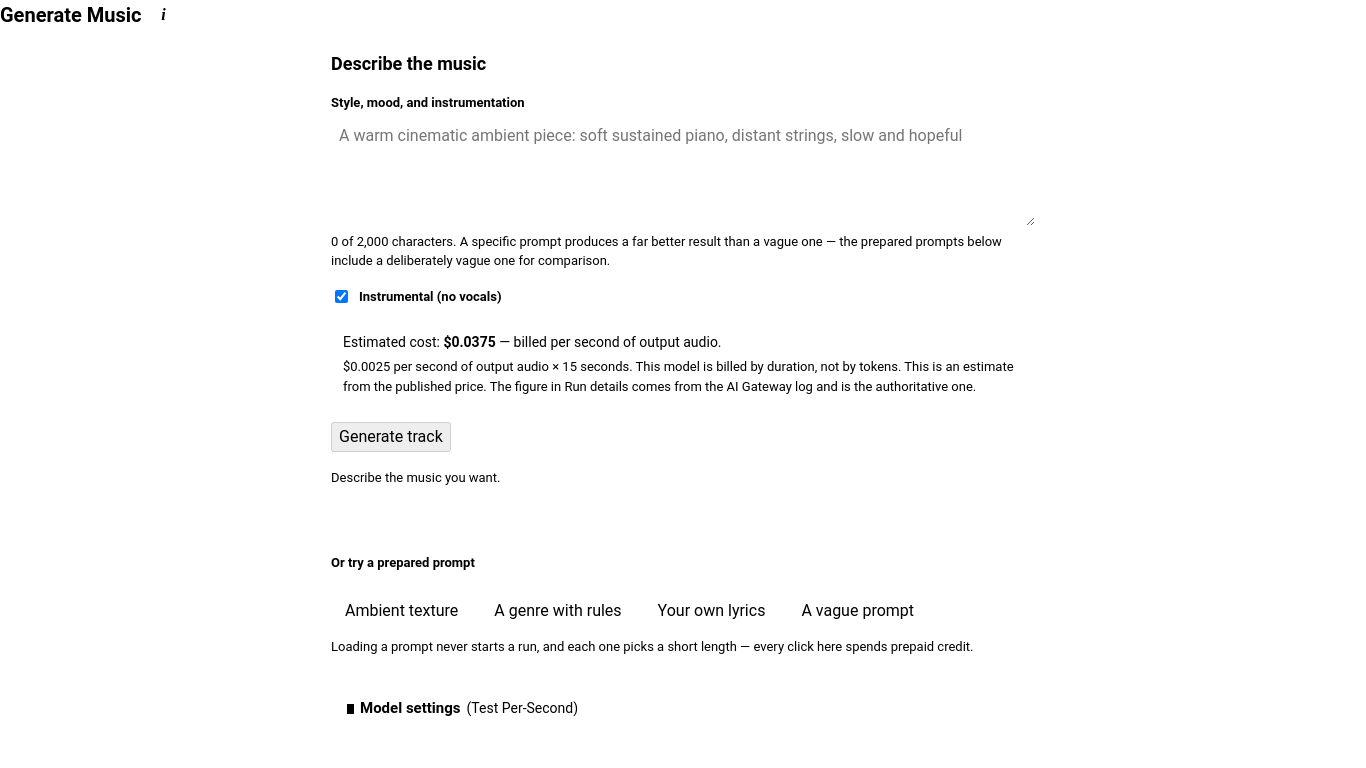
Scenario: run details › opens the run-details modal after a run
Step 1. Replace the text in the text box with id "music-prompt" with "ambient piano" → [683, 172], box [331,118,1035,226]
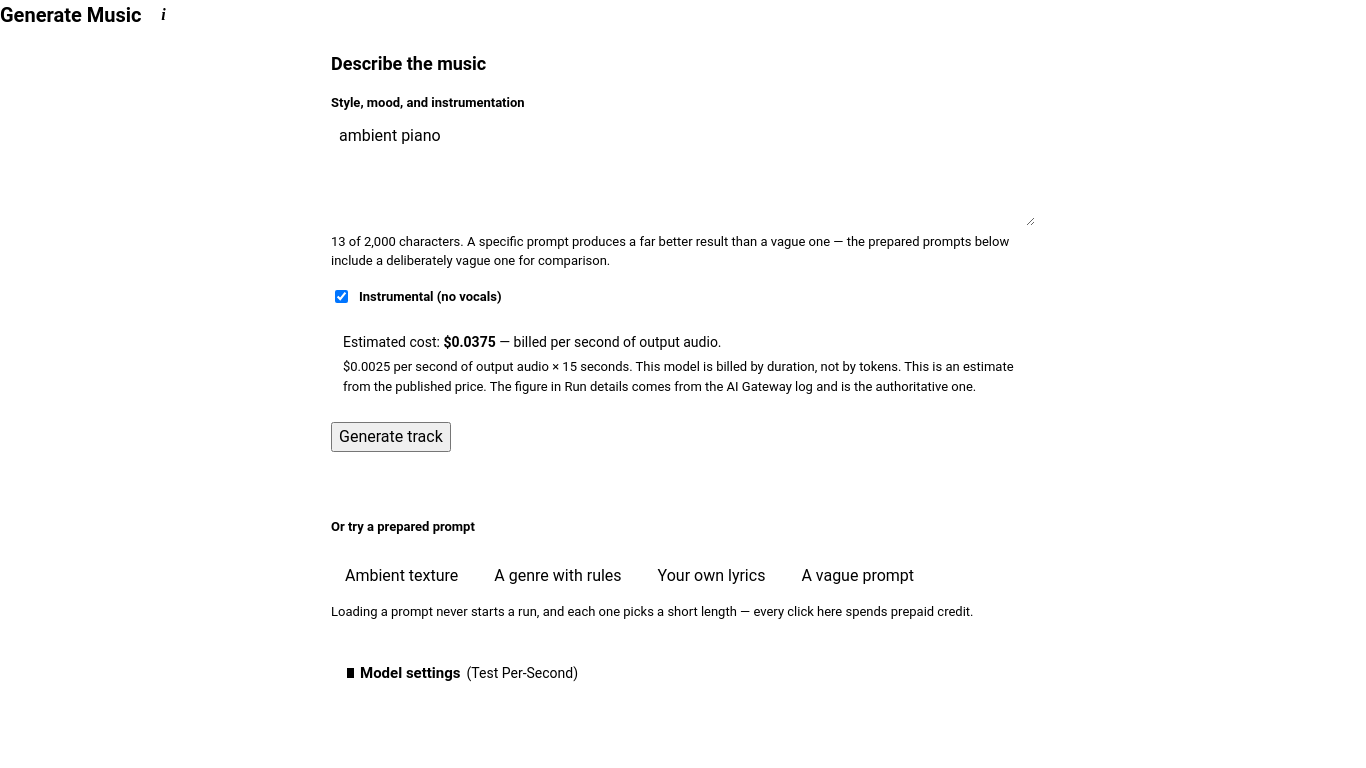
Step 2. Click the button with class "generate-button" → [391, 437], box [331,422,451,452]
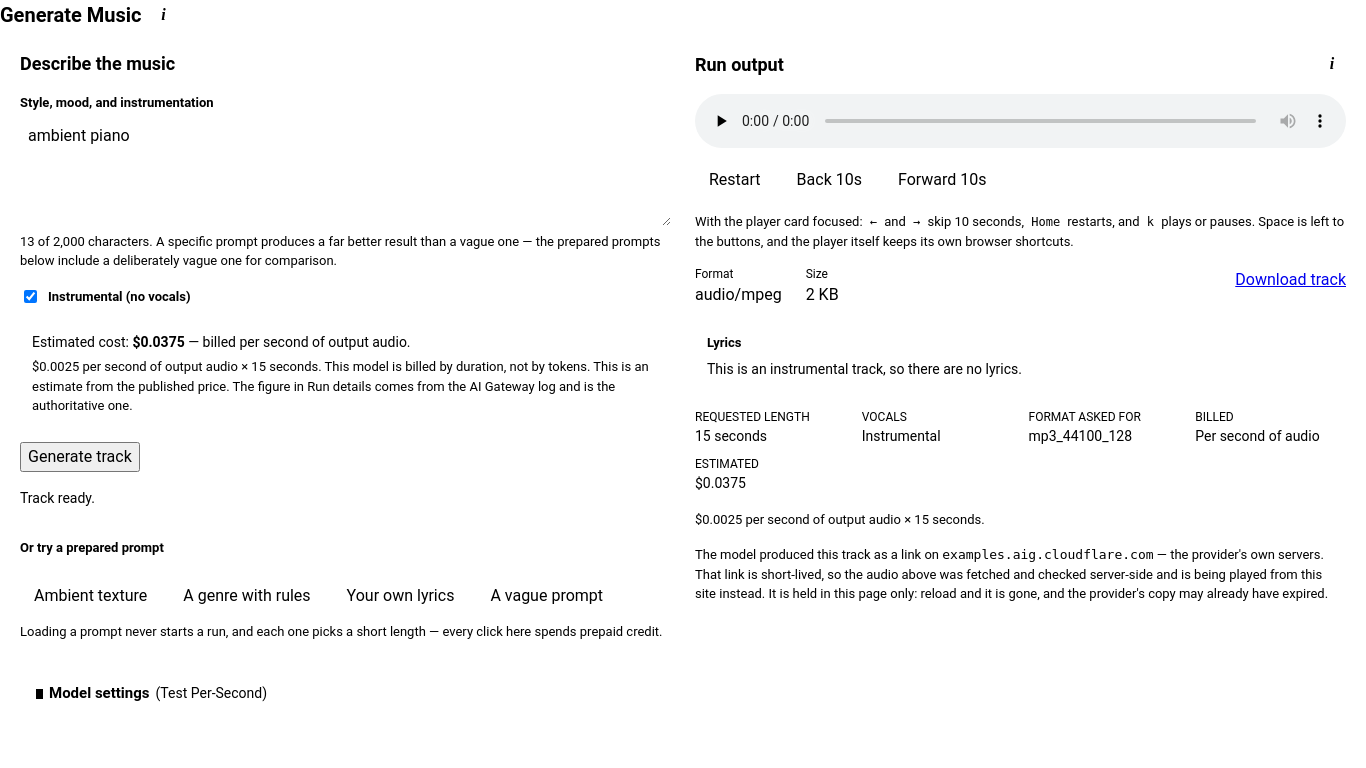
Step 3. Click the button with class "run-details-button" → [1332, 64], box [1318,50,1346,78]
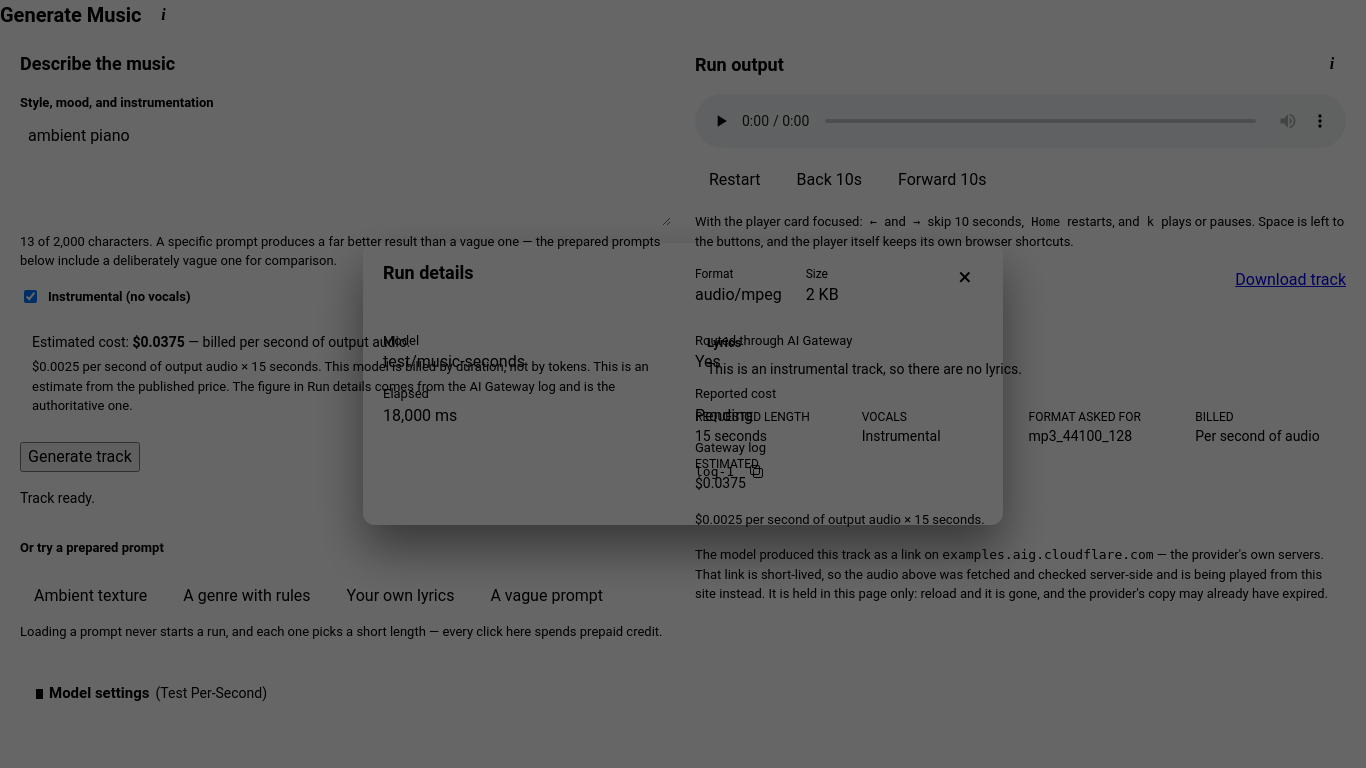
Check: the dialog shows "Reported cost", box [695,386,776,401]
